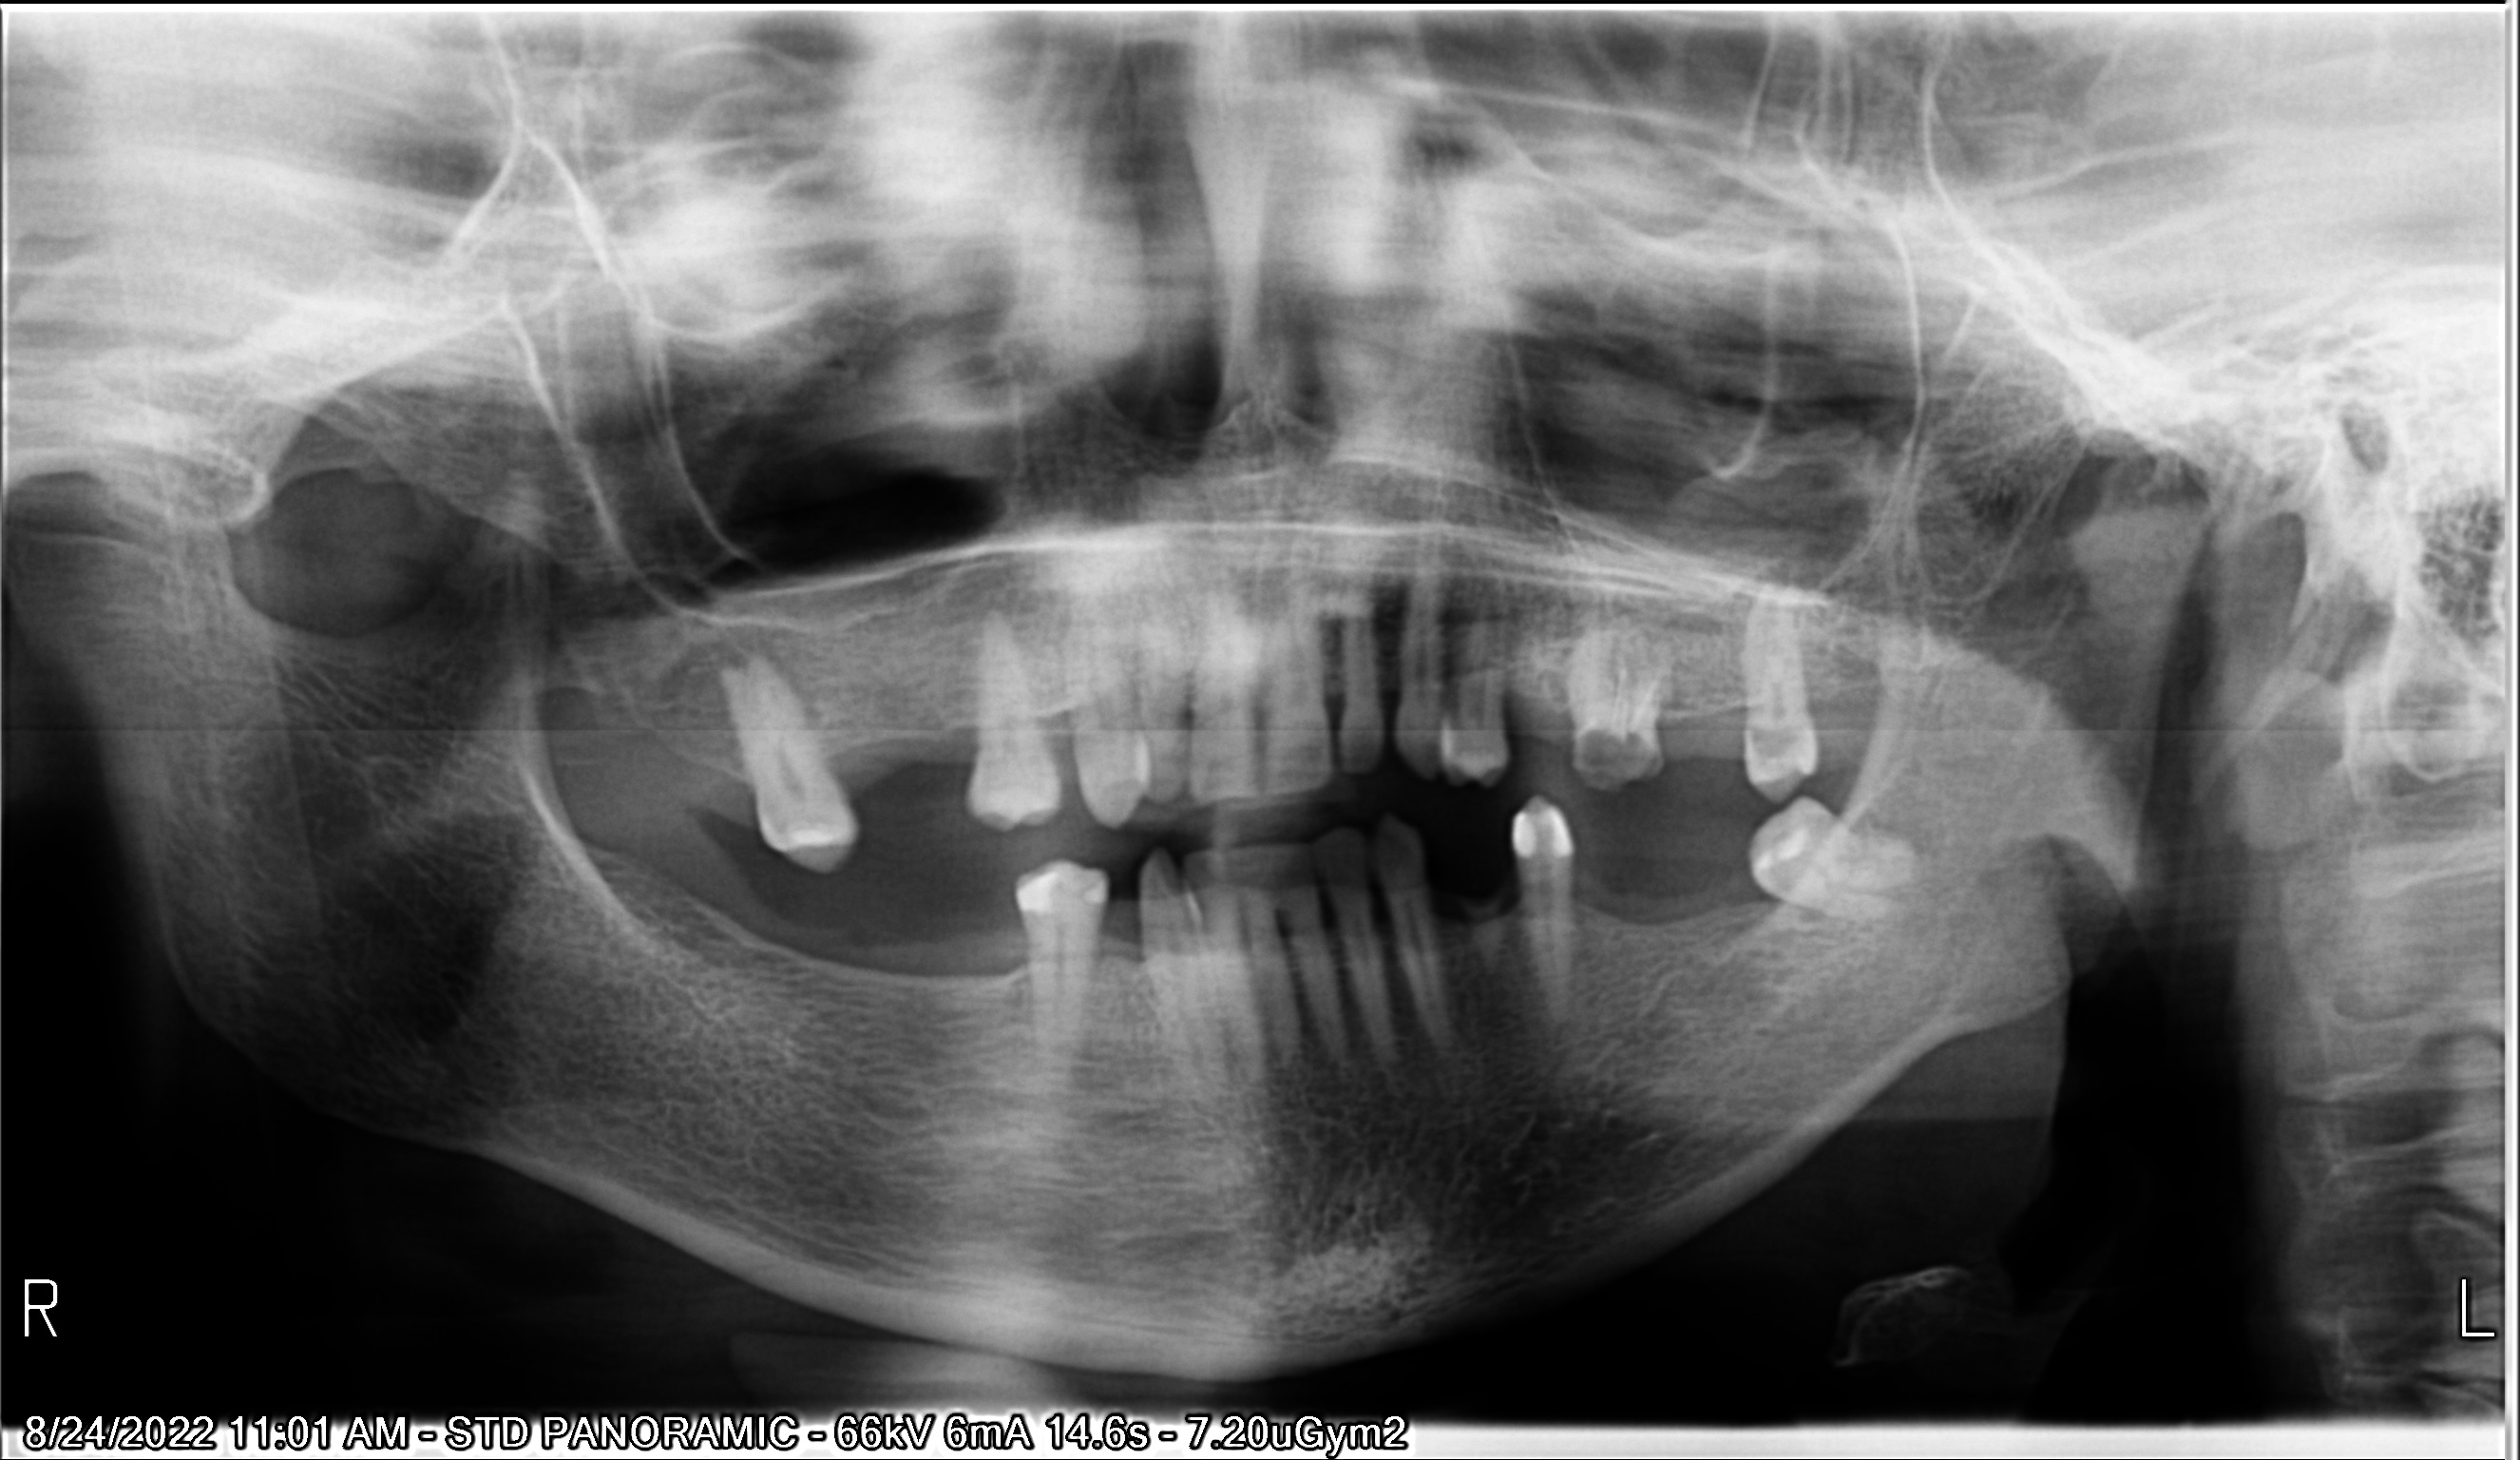CAR: (1575, 723, 1672, 800), (1745, 723, 1817, 777)
OBT: (1004, 864, 1063, 944), (1758, 812, 1825, 878), (1542, 793, 1594, 866), (1494, 798, 1542, 866), (1077, 866, 1106, 923)
